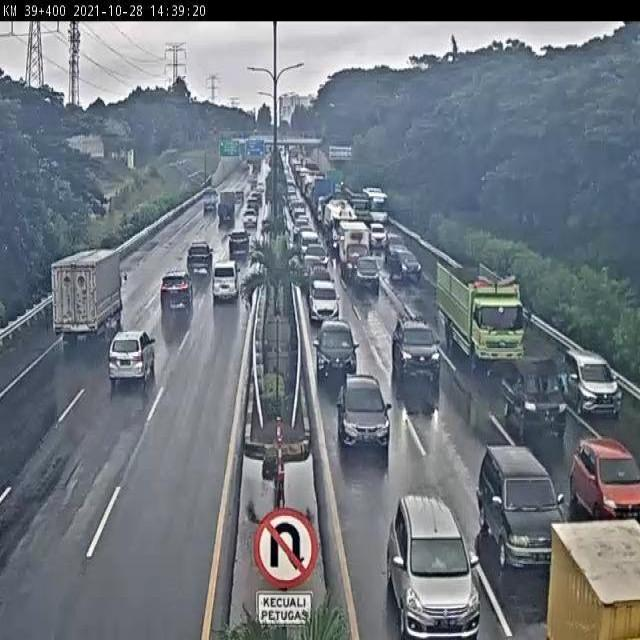car: (385, 496, 480, 640), (476, 447, 567, 569), (571, 440, 640, 525), (335, 373, 395, 444), (562, 349, 621, 416), (393, 317, 441, 375), (315, 317, 358, 379), (108, 331, 154, 384), (310, 276, 339, 321), (381, 248, 420, 280), (158, 276, 192, 307), (211, 262, 240, 298), (187, 238, 213, 274), (354, 255, 379, 285), (226, 228, 250, 256), (382, 229, 407, 255), (303, 253, 324, 280), (307, 264, 331, 285), (305, 244, 328, 265)
mid truck: (441, 264, 525, 361), (52, 250, 125, 342)
small truck: (503, 357, 567, 439), (340, 224, 370, 271)
